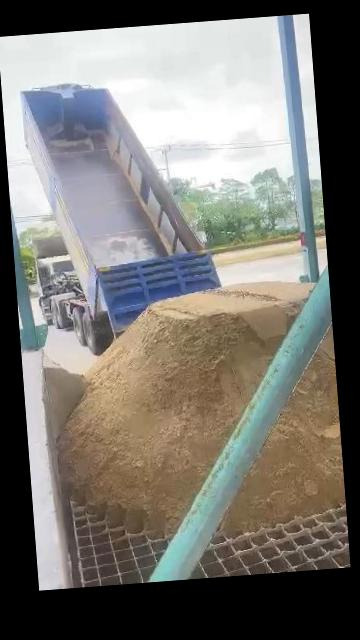sand: (60, 283, 309, 532), (225, 332, 346, 529), (44, 357, 84, 444)
